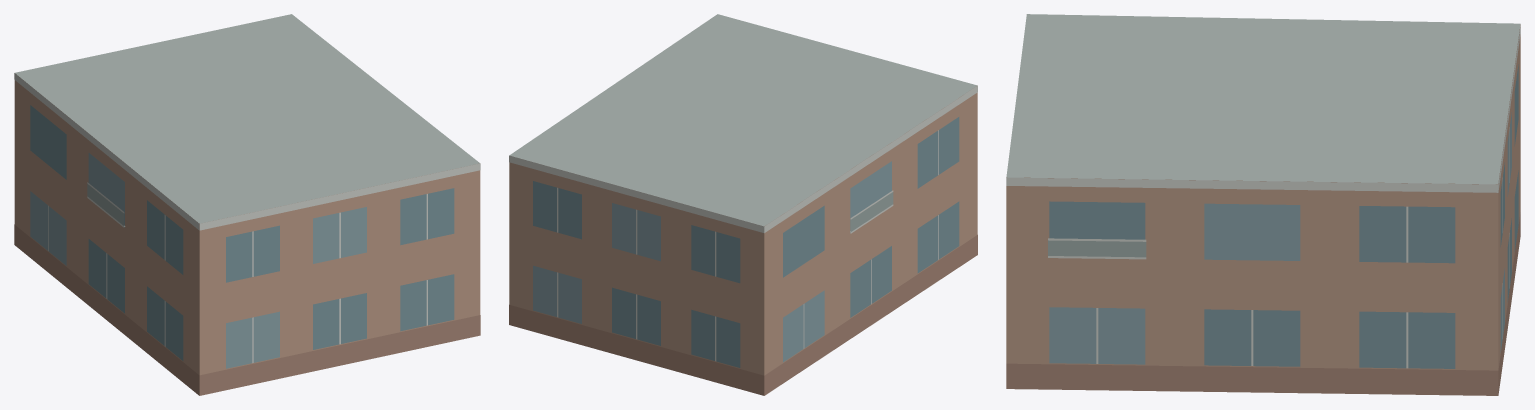
File: survey-upis-32693674.glb
3 views of the same model, side by side, from view 1: azimuth 30°, elevation 25°; view 2: azimuth 150°, elevation 25°; view 3: azimuth 270°, elevation 25° (orthographic). The views are drawn at different scales.
Visible parts, largest first — view 1: survey-upis-32693674.tmp; view 2: survey-upis-32693674.tmp; view 3: survey-upis-32693674.tmp.
Part boxes in pixels (<box>): survey-upis-32693674.tmp: <box>14,14,480,395</box>; survey-upis-32693674.tmp: <box>509,14,977,395</box>; survey-upis-32693674.tmp: <box>1006,14,1520,395</box>.
Bounding box in the file's own units: 10.55 × 6.1 × 13.45.
